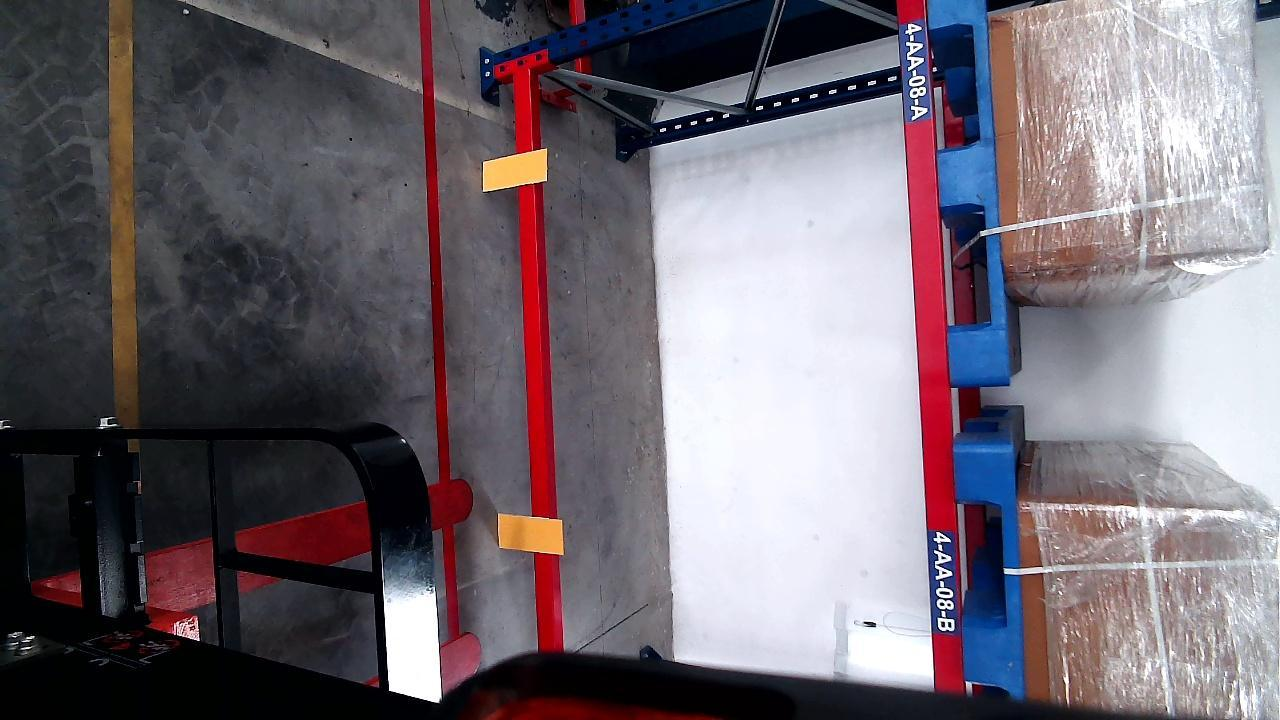red_line: (415, 1, 462, 639)
